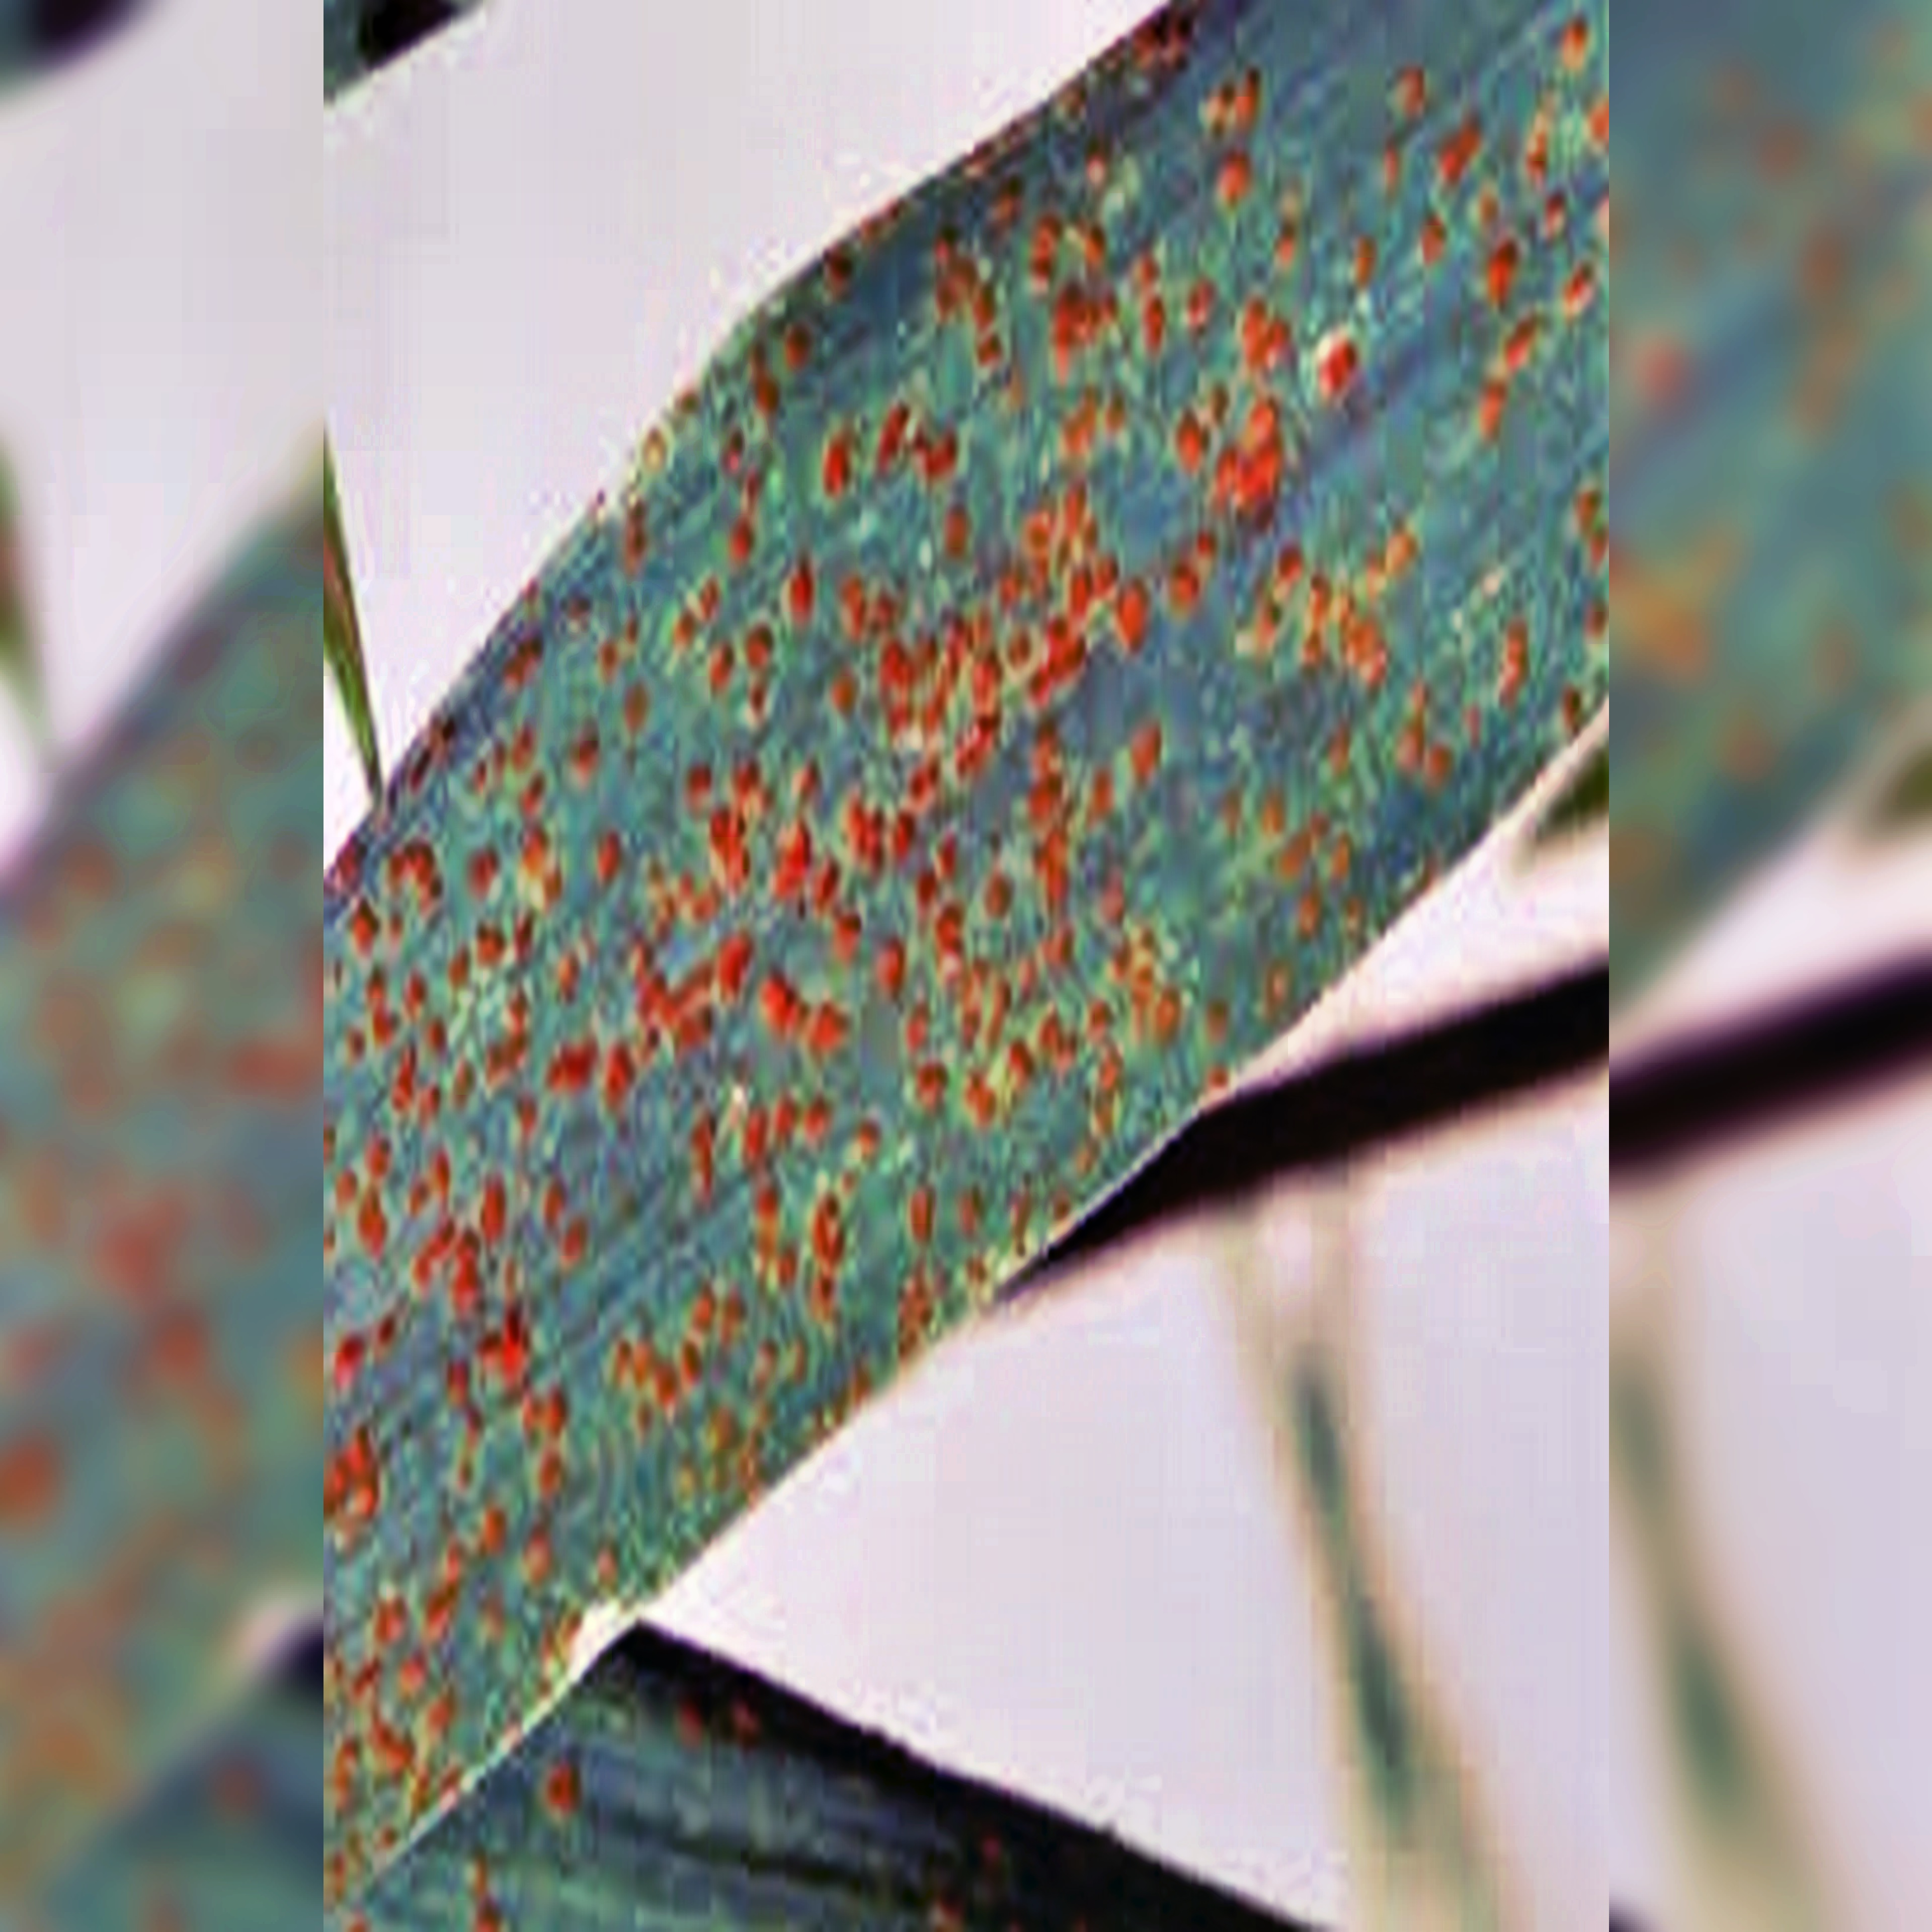Leaf Rust: (379, 69, 1553, 1571)
